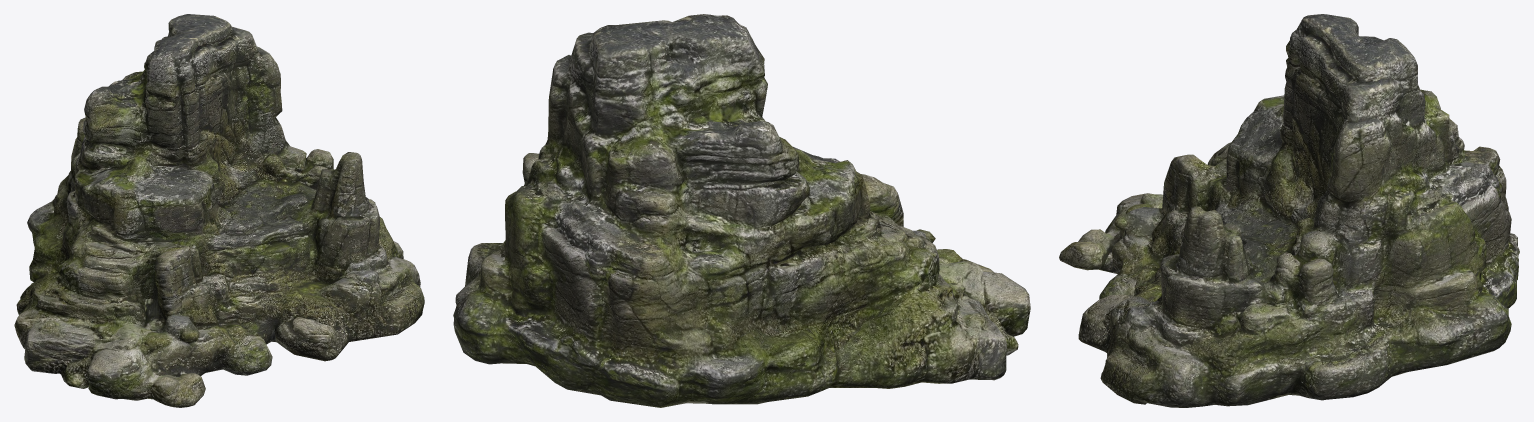
Rendered from sea_stack.glb.
3 renders of one model, left to right at view 1: azimuth 30°, elevation 25°; view 2: azimuth 150°, elevation 25°; view 3: azimuth 270°, elevation 25°, orthographic. The views are drawn at different scales.
Parts seen in each view (by area): view 1: sea_stack; view 2: sea_stack; view 3: sea_stack.
Boxes of the visible parts, x1,y1,x2,y2 form: sea_stack: [14, 14, 424, 407]; sea_stack: [453, 14, 1030, 407]; sea_stack: [1059, 14, 1519, 407].
Size of the model in its own units: 1.9 by 1.25 by 1.73.
1 material, 1 textured.
